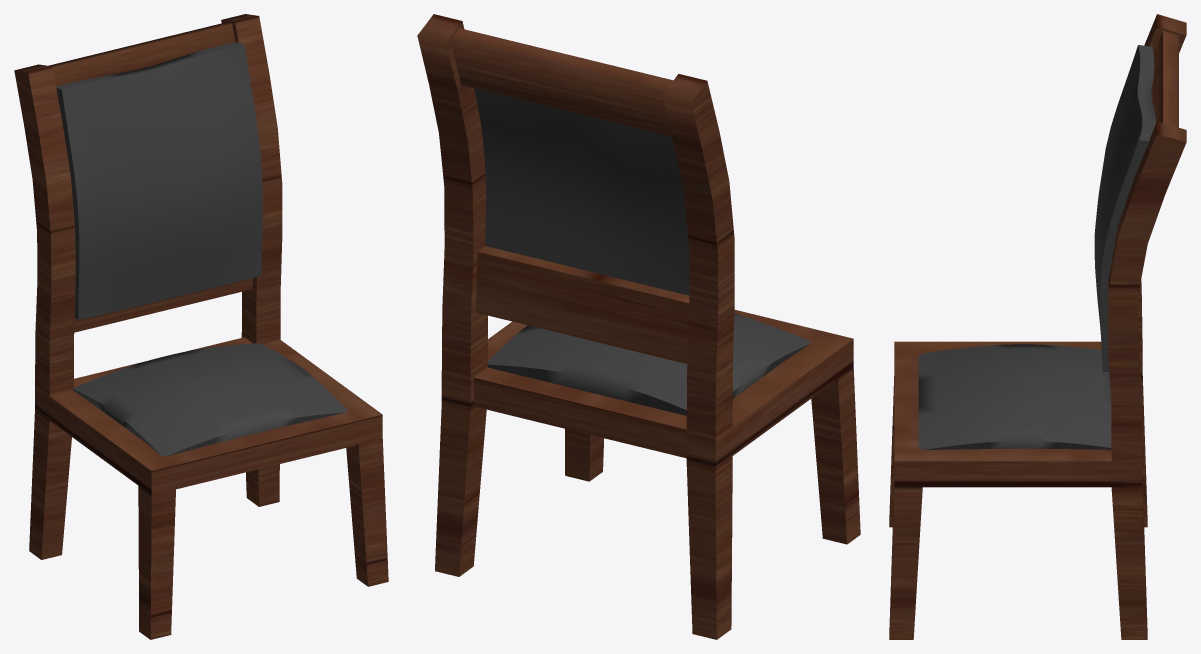
Rendered from KursiMakan.fbx.
3 renders of one model, left to right at view 1: azimuth 30°, elevation 25°; view 2: azimuth 150°, elevation 25°; view 3: azimuth 270°, elevation 25°, orthographic. The views are drawn at different scales.
Visible parts, largest first — view 1: Kursimakan_LOD0; view 2: Kursimakan_LOD0; view 3: Kursimakan_LOD0.
Part boxes in pixels (x1,y1,x2,y2): Kursimakan_LOD0: (14, 14, 388, 639); Kursimakan_LOD0: (417, 14, 860, 639); Kursimakan_LOD0: (889, 14, 1186, 639).
Size of what is drawn, in the model's own units: 133 by 254 by 135.
2 materials, 2 textured.
